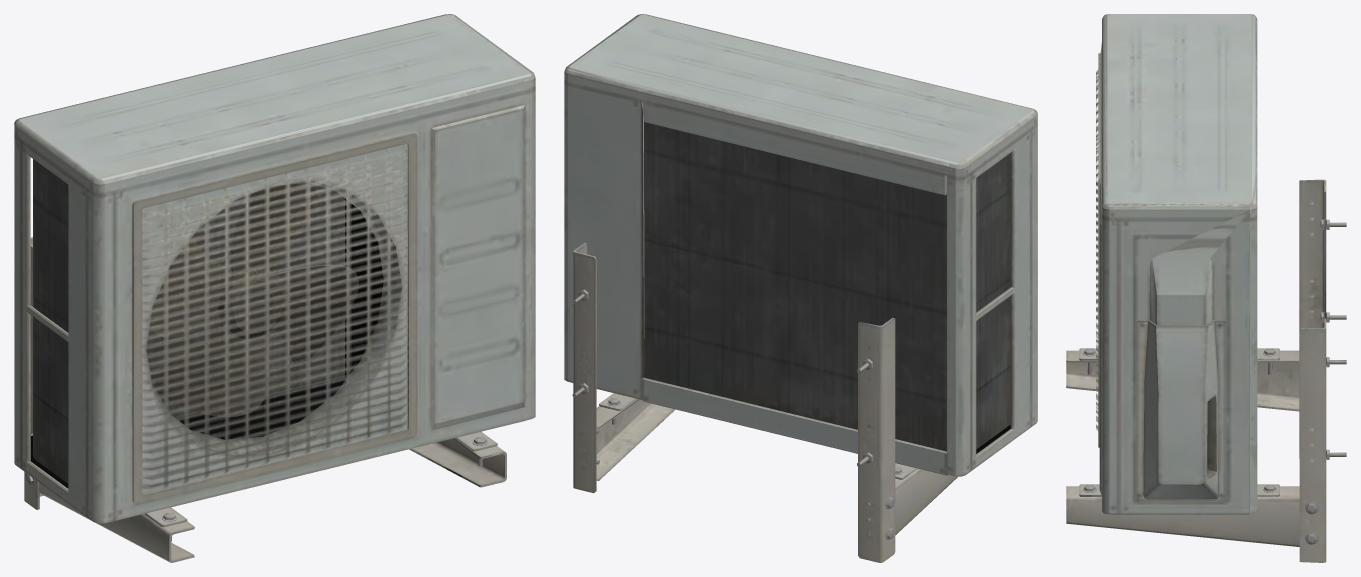
The model's file is ac-condenser.glb.
3 renders of one model, left to right at view 1: azimuth 30°, elevation 25°; view 2: azimuth 150°, elevation 25°; view 3: azimuth 270°, elevation 25°, orthographic. The views are drawn at different scales.
Visible parts, largest first — view 1: Conditioner, Grid_low.001, Propeller_low.001, 5_low.001, Beam1_low.001, 3_low.001, 4_low.001, 6_low.001, 7_low.001, Beam2_low.001; view 2: Conditioner, 5_low.001, Beam2_low.001, Beam1_low.001; view 3: Conditioner, 2_low.001, Beam2_low.001, Beam1_low.001, Grid_low.001, 7_low.001.
Part boxes in pixels (x1,y1,x2,y2): Conditioner: (14, 14, 535, 523); Grid_low.001: (142, 148, 408, 489); Propeller_low.001: (149, 183, 358, 416); 5_low.001: (33, 159, 344, 483); Beam1_low.001: (39, 438, 506, 562); 3_low.001: (30, 377, 344, 488); 4_low.001: (345, 198, 383, 380); 6_low.001: (218, 266, 287, 338); 7_low.001: (144, 431, 497, 527); Beam2_low.001: (24, 237, 43, 509); Conditioner: (564, 14, 1037, 476); 5_low.001: (644, 122, 1010, 451); Beam2_low.001: (573, 242, 895, 562); Beam1_low.001: (584, 399, 957, 535); Conditioner: (1098, 14, 1257, 514); 2_low.001: (1136, 320, 1225, 500); Beam2_low.001: (1299, 179, 1326, 562); Beam1_low.001: (1066, 350, 1313, 546); Grid_low.001: (1096, 70, 1098, 430); 7_low.001: (1079, 348, 1279, 496).
Size of the model in its own units: 0.9245 by 0.8 by 0.5367.
Materials: 1 (1 with a texture image).
